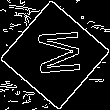M_W: (28, 30, 82, 80)
